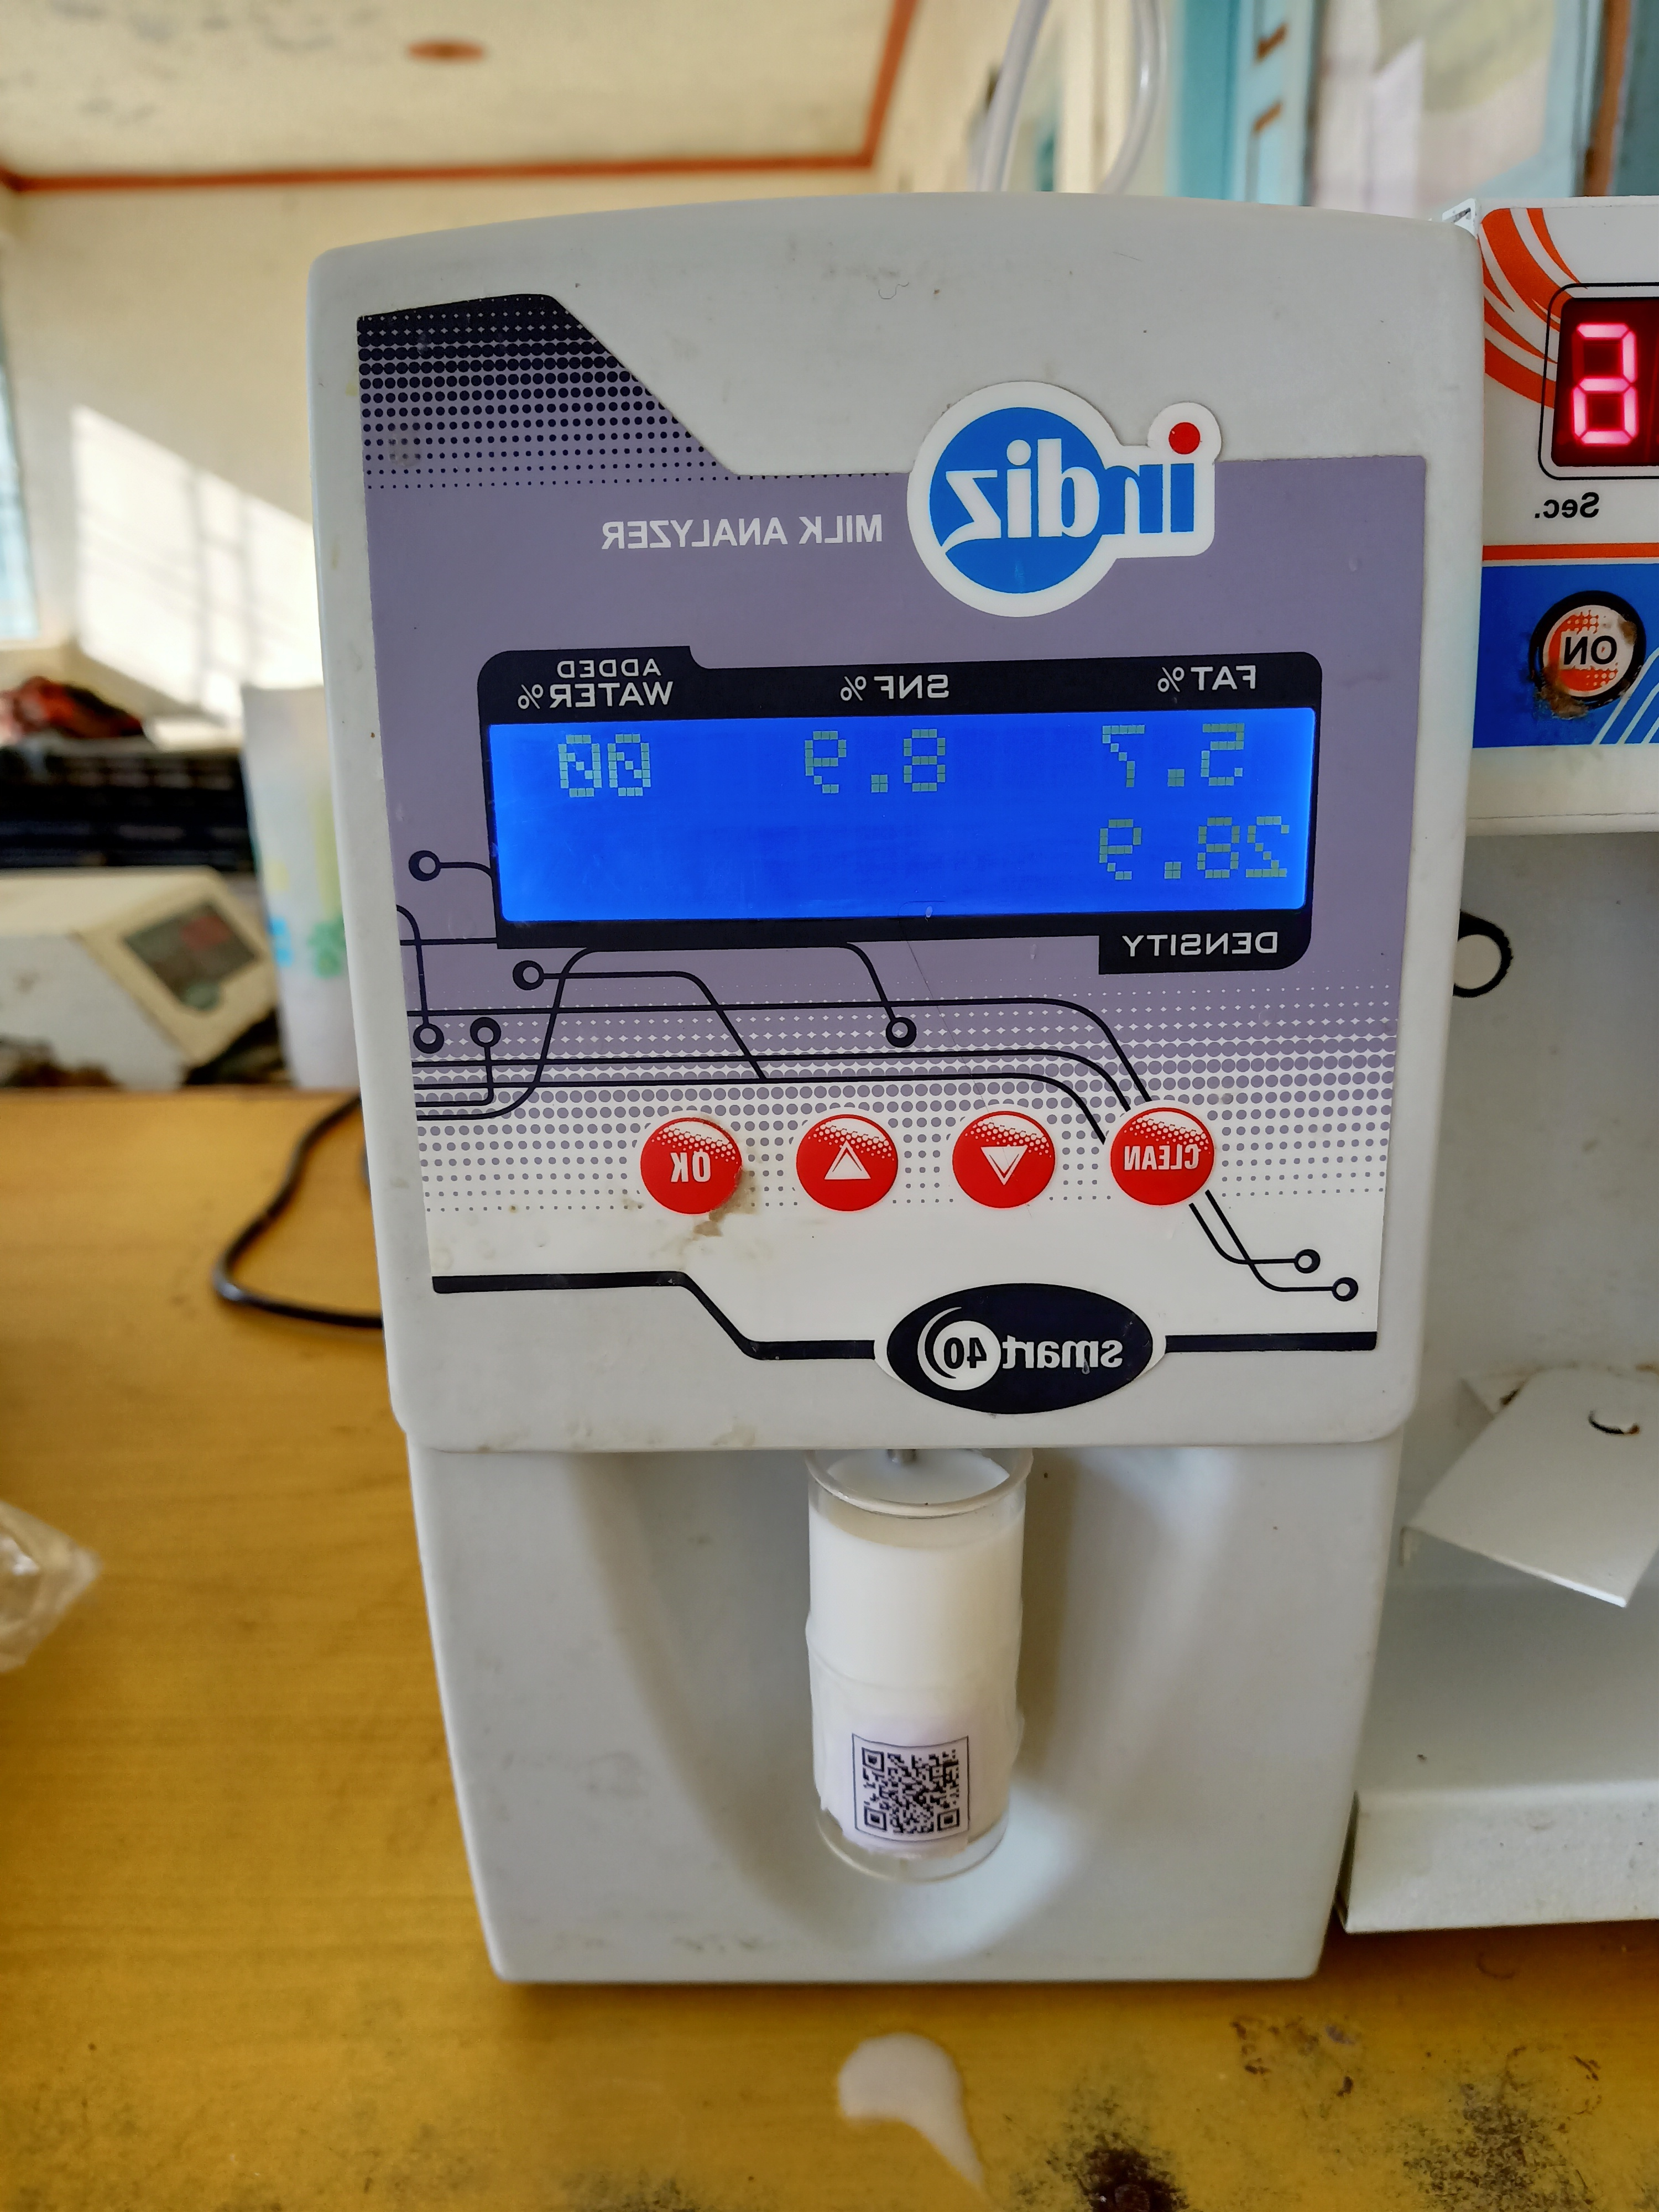lcd: (486, 625, 1356, 1001)
qr: (849, 1738, 979, 1864)
